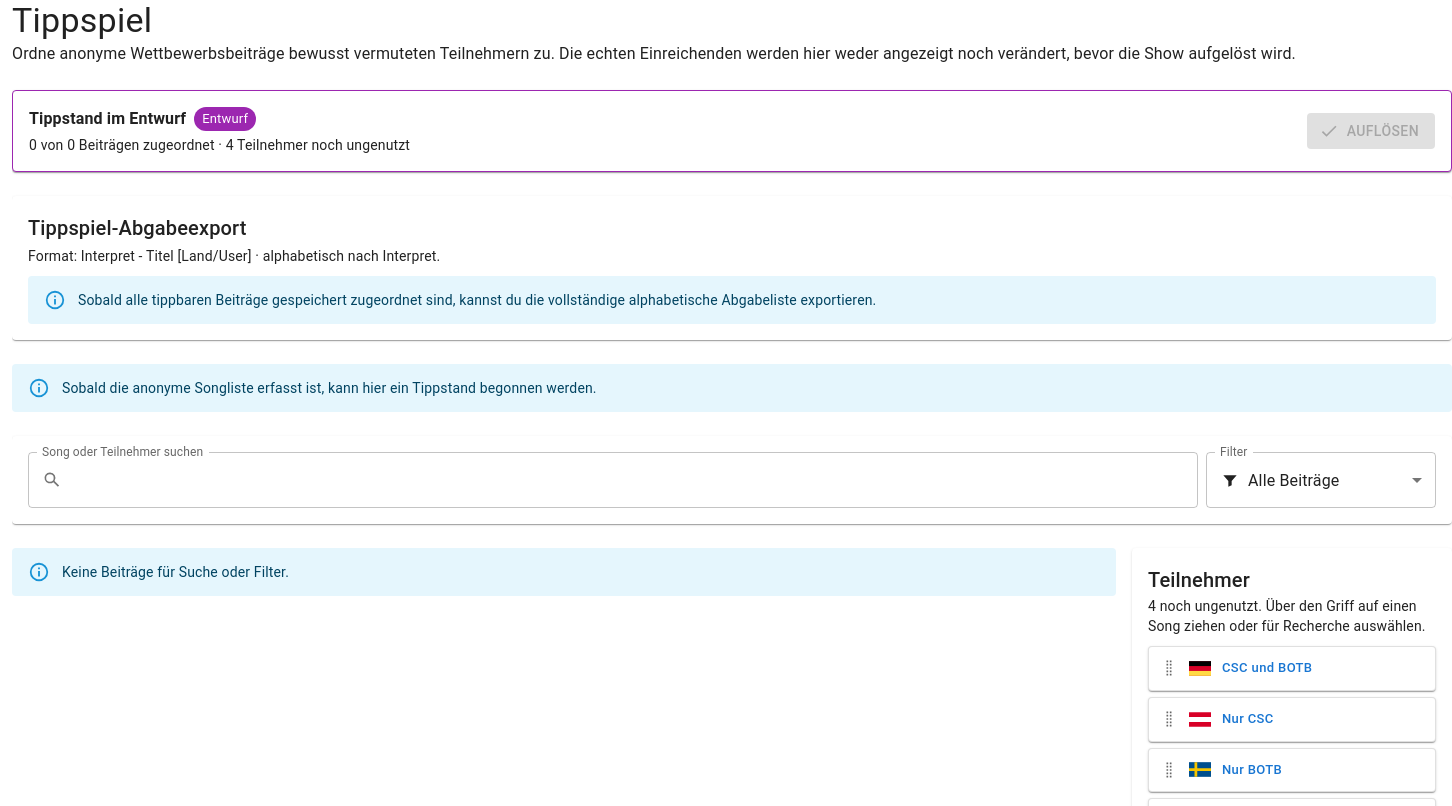
it: TipsGamePage participant history › shows separated searchable CSC and read-only BOTB histories from the single existing history request
Click the button "CSC und BOTB" at (1323, 668), box [1217, 653, 1429, 684]
(page scrolled)
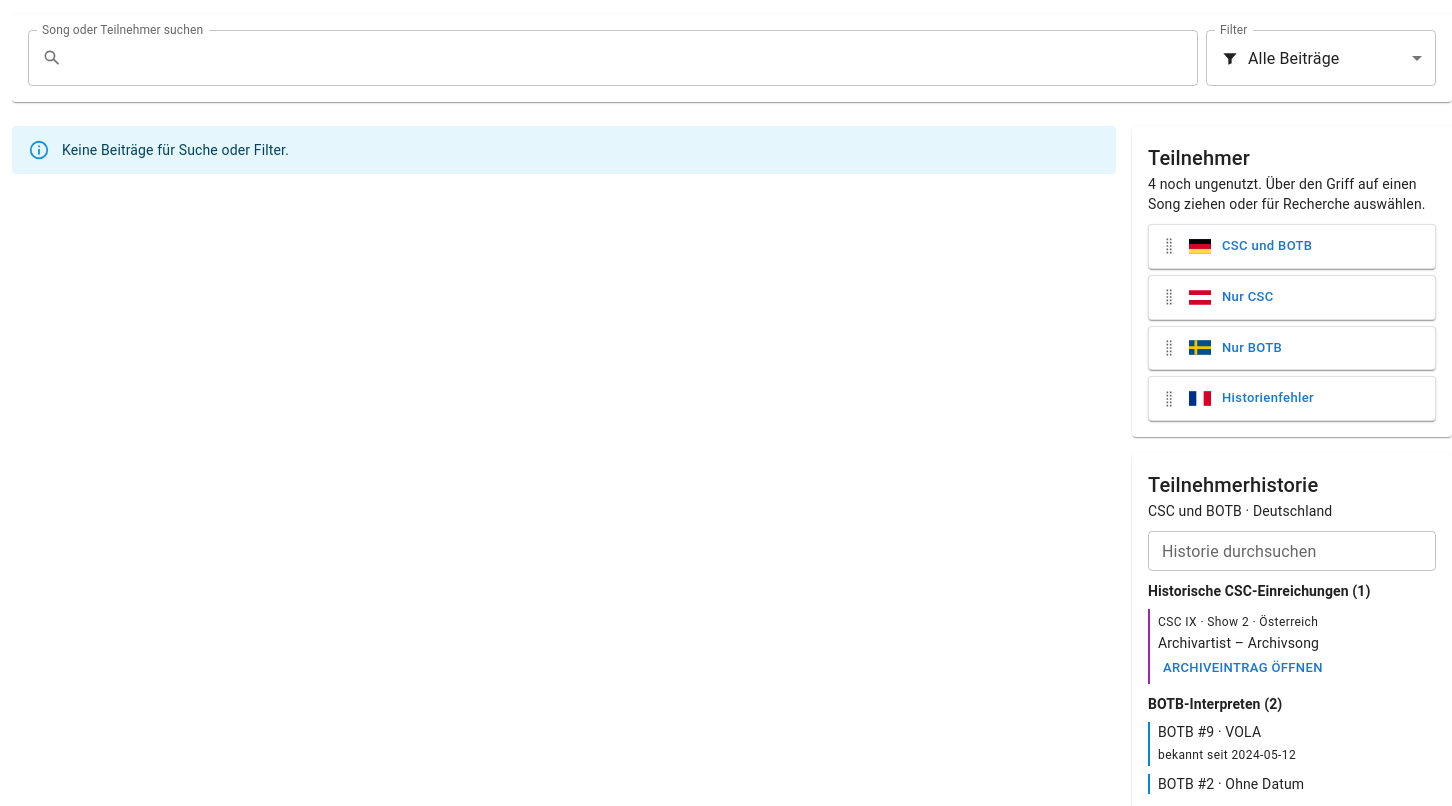
Check: the heading "Historische CSC-Einreichungen (1)" is shown, box [1148, 583, 1370, 599]
Check: the heading "BOTB-Interpreten (2)" is shown, box [1148, 696, 1282, 712]
Check: the text "BOTB #9 · VOLA" is shown, box [1158, 724, 1261, 740]
Type "BOTB #9" into the field labelled "Historie durchsuchen" at (1292, 551), box [1148, 531, 1436, 571]
(page scrolled)
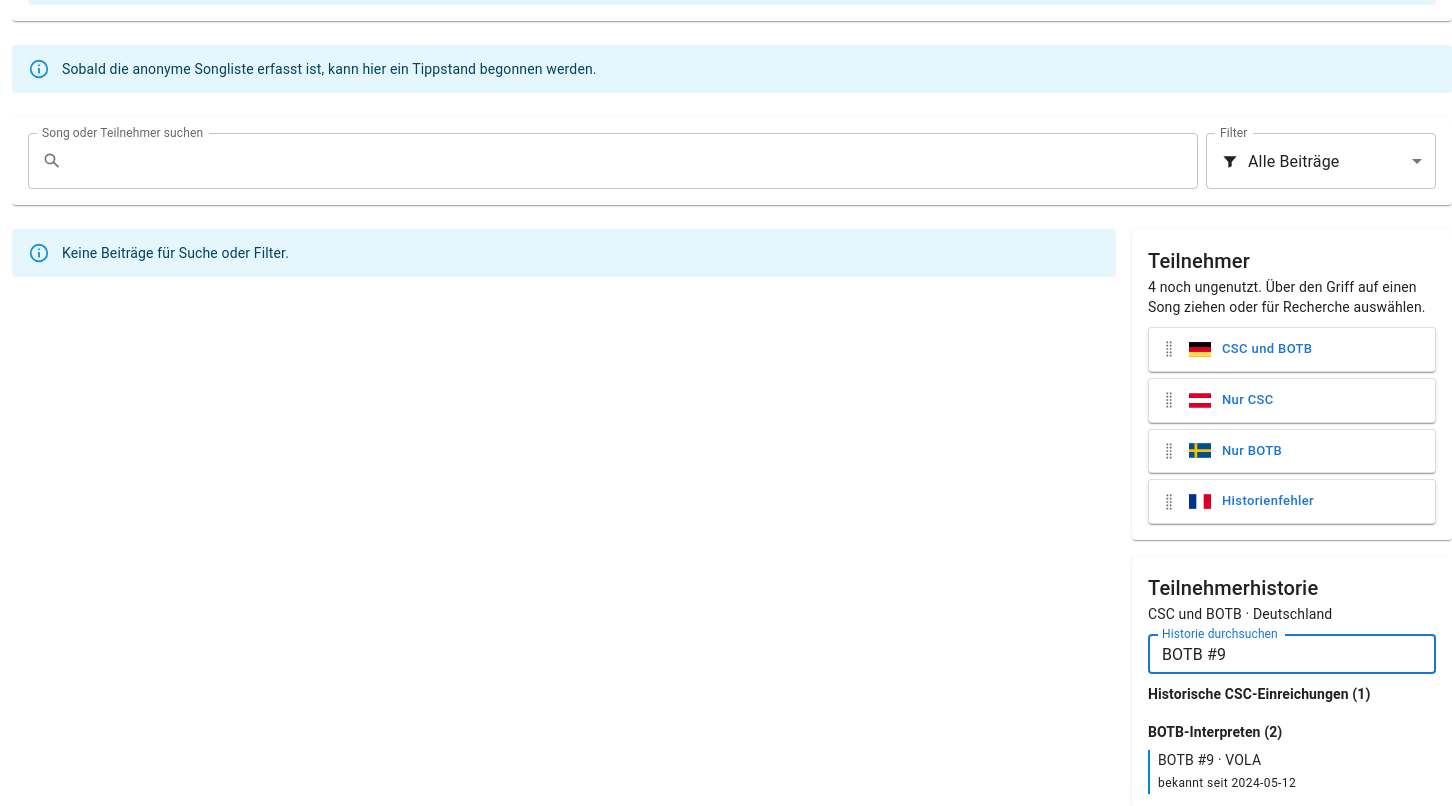
Check: the text "BOTB #9 · VOLA" is shown, box [1158, 752, 1261, 768]
Check: the text "Archivartist – Archivsong" is gone
Clear the field labelled "Historie durchsuchen" at (1292, 654), box [1148, 634, 1436, 674]
(page scrolled)
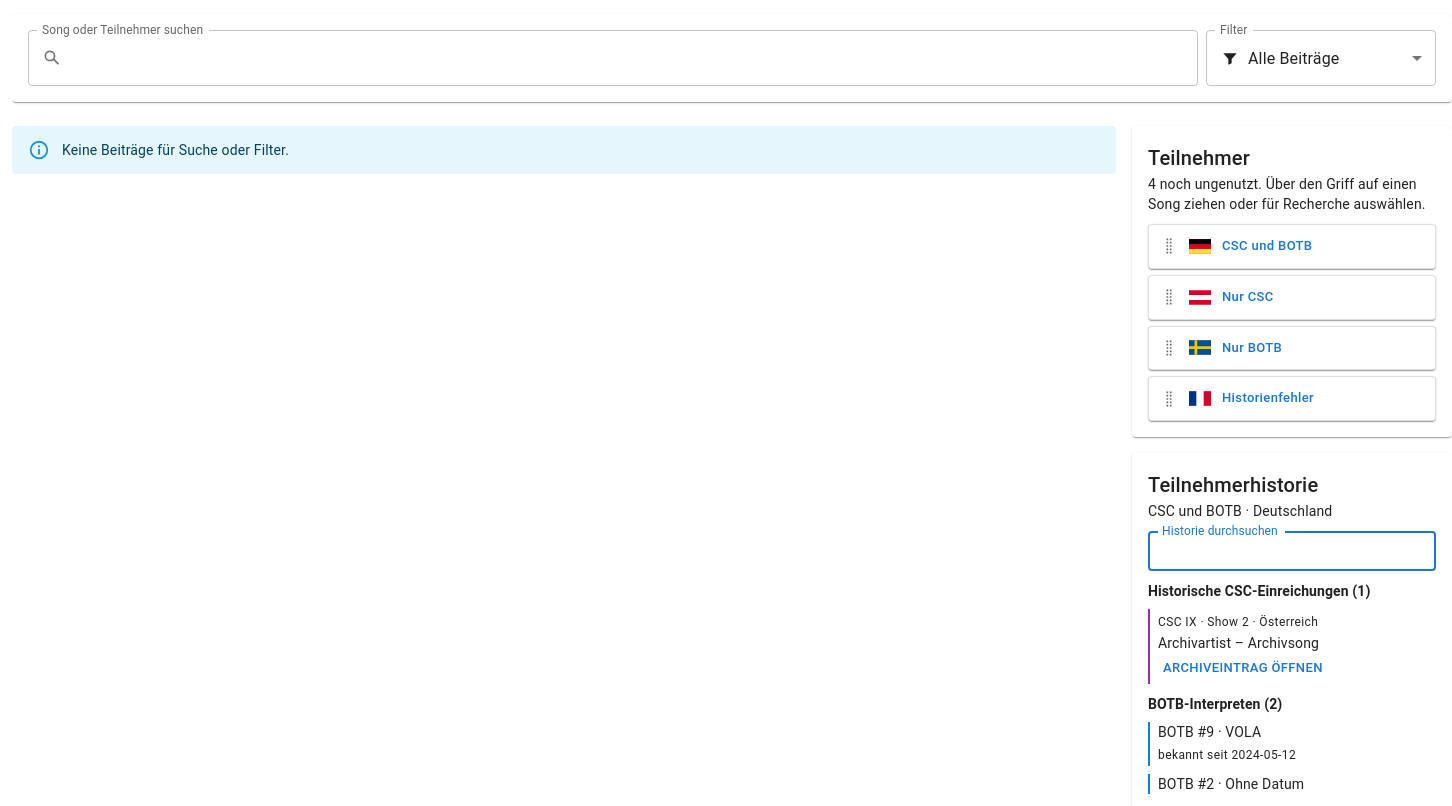
Type "Archivartist" into the field labelled "Historie durchsuchen" at (1292, 551), box [1148, 531, 1436, 571]
(page scrolled)
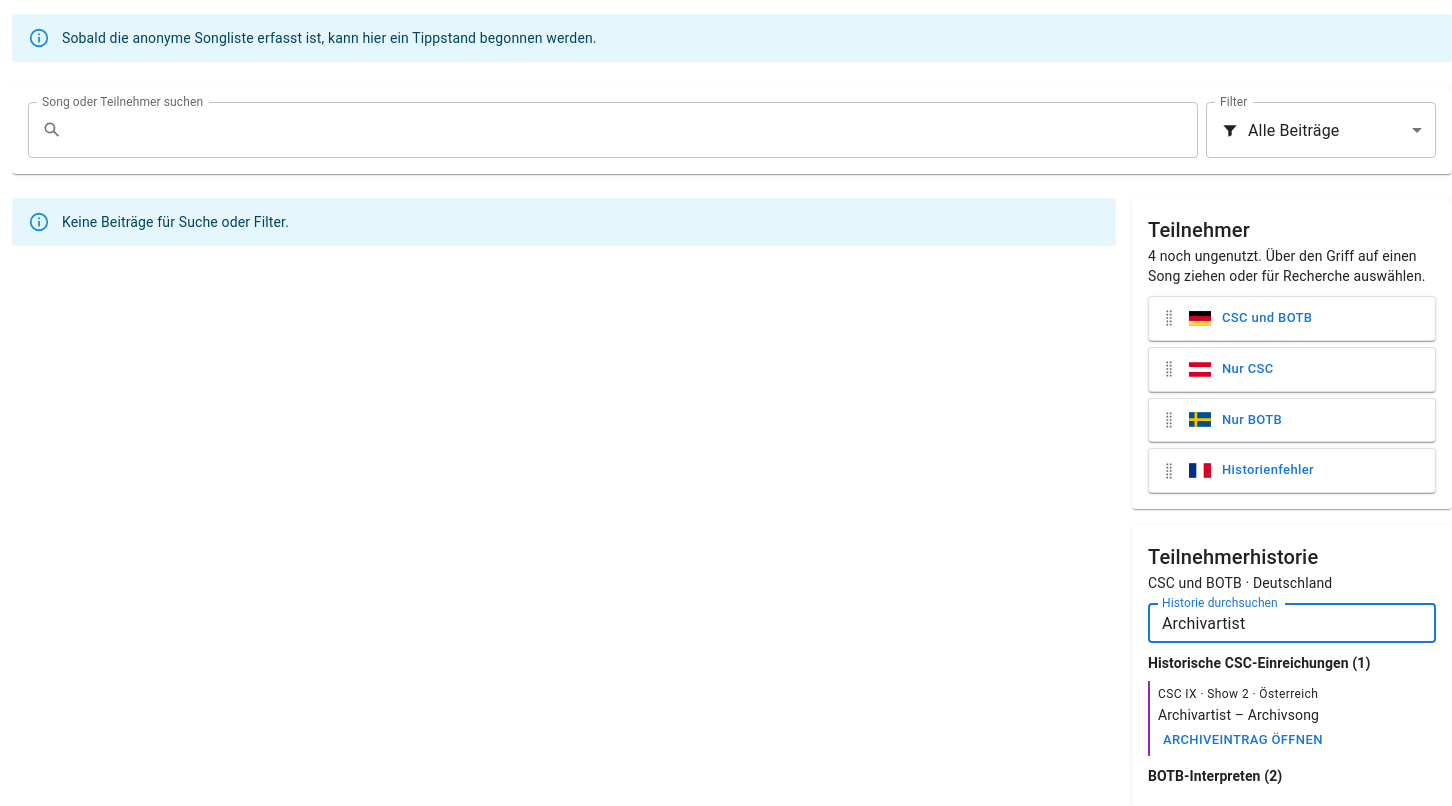
Check: the text "Archivartist – Archivsong" is shown, box [1158, 707, 1319, 723]
Check: the text "BOTB #9 · VOLA" is gone
